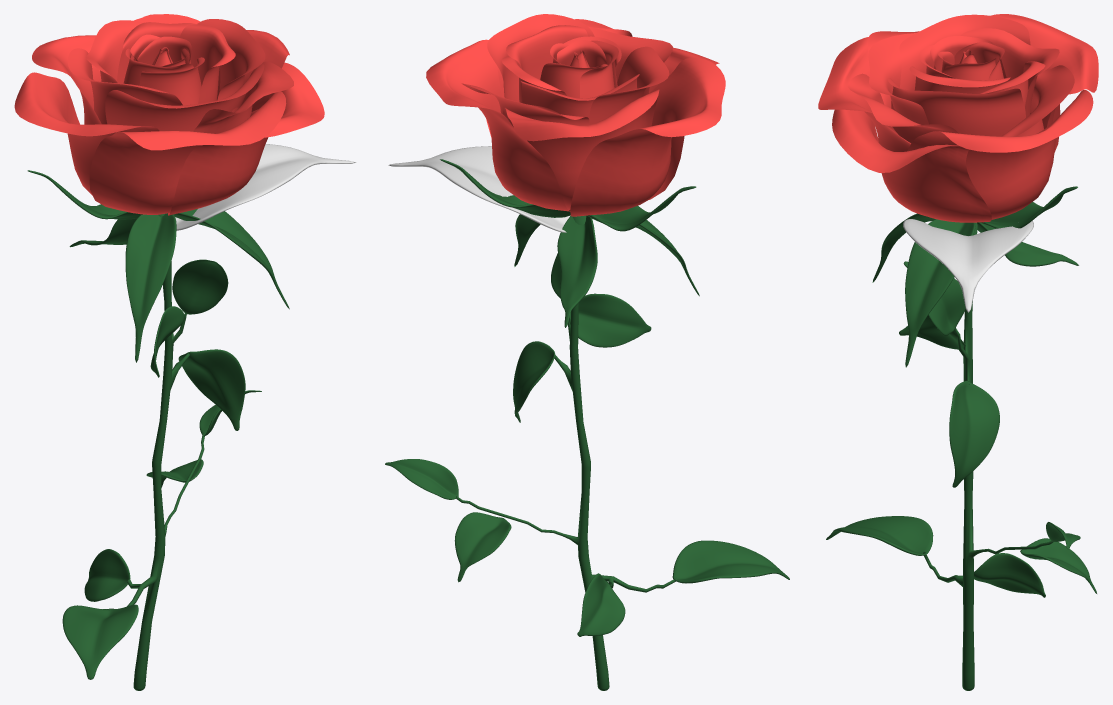
The model's file is rose 줄기.fbx.
3 renders of one model, left to right at view 1: azimuth 30°, elevation 25°; view 2: azimuth 150°, elevation 25°; view 3: azimuth 270°, elevation 25°, orthographic. The views are drawn at different scales.
Visible parts, largest first — view 1: rose3_5.008, rose3_5.006, Cylinder, rose3_5.007, leaf.002, rose3_5, leaf, leaf.011, leaf.007, leaf.008, rose3_5.001, rose3_2 (+15 smaller); view 2: rose3_5.007, rose3_5.005, rose3_5.003, Cylinder, leaf.011, leaf, leaf.006, leaf.004, rose3_4, leaf.009, rose3_5.001, leaf.012 (+13 smaller); view 3: rose3_5.006, rose3_5.005, leaf, rose3_5.001, Cylinder, leaf.007, leaf.001, rose3_5.008, rose3_5.003, rose3_4, leaf.011, rose3_5 (+17 smaller).
Part boxes in pixels (x1,y1,x2,y2): rose3_5.008: (89,91,286,214); rose3_5.006: (168,62,324,215); Cylinder: (107,214,204,690); rose3_5.007: (14,72,159,195); leaf.002: (125,213,176,362); rose3_5: (105,64,264,131); leaf: (175,144,355,230); leaf.011: (62,604,138,679); leaf.007: (178,349,245,430); leaf.008: (172,259,228,314); rose3_5.001: (197,19,265,112); rose3_2: (179,24,235,103); rose3_5.007: (570,57,725,216); rose3_5.005: (426,39,570,211); rose3_5.003: (503,89,659,210); Cylinder: (456,215,677,690); leaf.011: (672,540,789,583); leaf: (388,146,570,232); leaf.006: (569,293,651,347); leaf.004: (557,215,597,327); rose3_4: (589,46,669,124); leaf.009: (454,512,511,582); rose3_5.001: (487,14,594,101); leaf.012: (577,573,625,636); rose3_5.006: (832,109,991,222); rose3_5.005: (907,90,1093,219); leaf: (903,219,1033,312); rose3_5.001: (888,78,1025,136); Cylinder: (923,222,1053,690); leaf.007: (949,380,999,487); leaf.001: (905,219,975,367); rose3_5.008: (818,37,910,151); rose3_5.003: (990,14,1098,129); rose3_4: (899,14,1030,90); leaf.011: (826,516,933,555); rose3_5: (868,33,928,124).
Bounding box in the file's own units: 596 × 1078 × 421.
